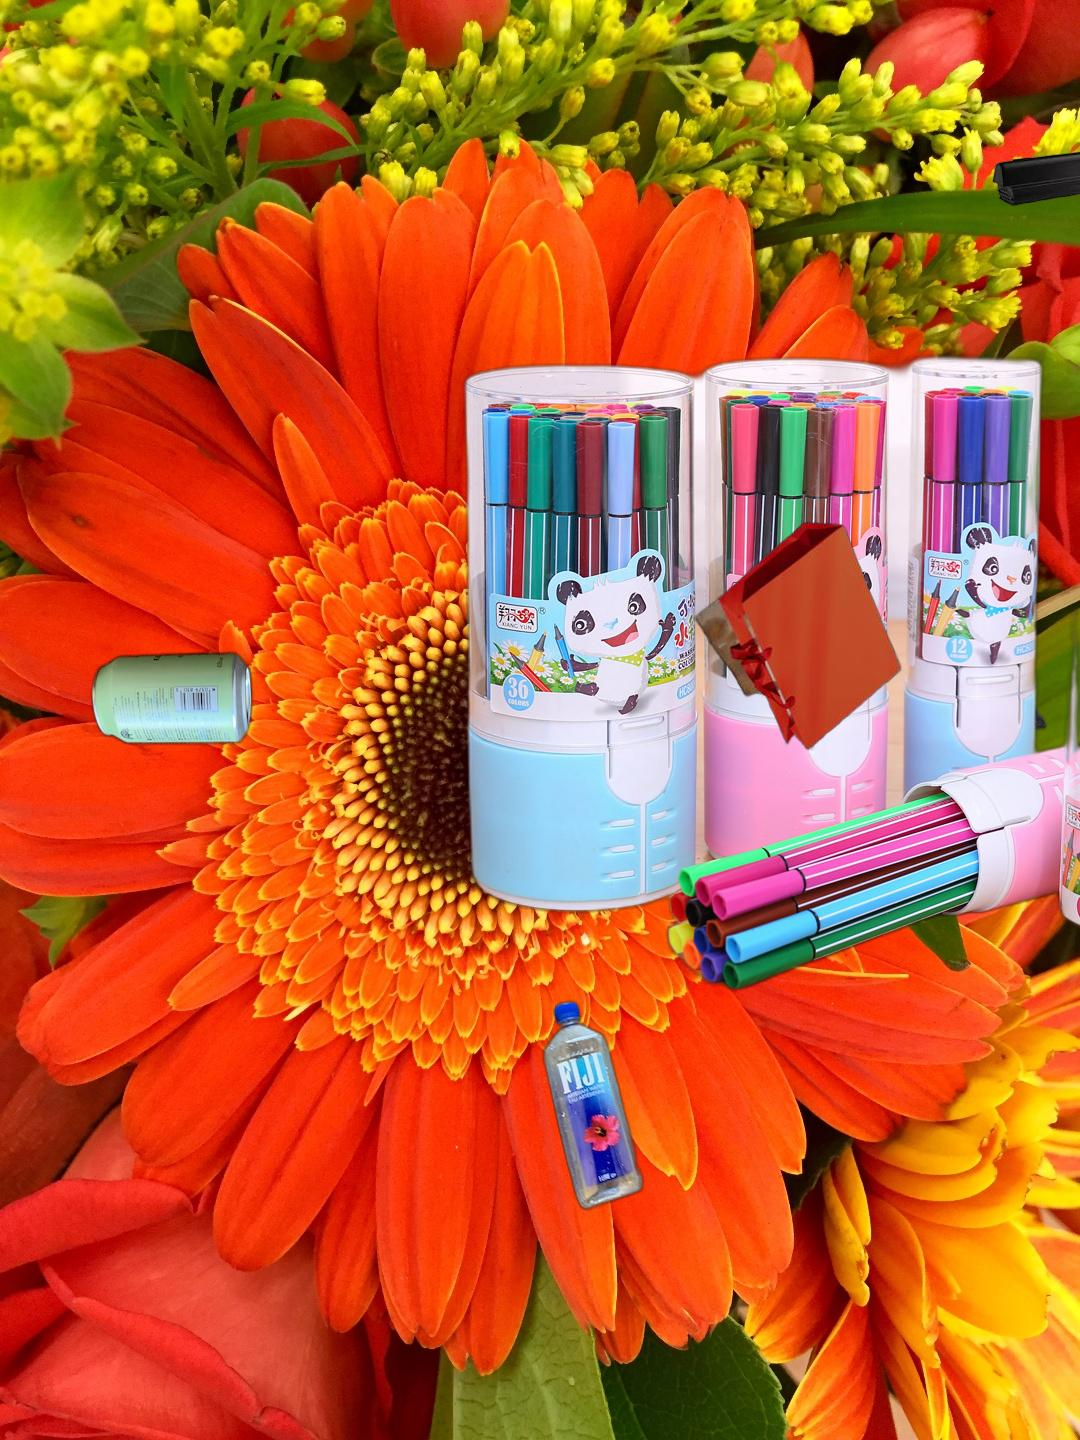battery: (990, 136, 1080, 207)
biological: (770, 812, 901, 876)
metal-cans: (87, 646, 258, 749)
paper-bag: (692, 519, 904, 752)
penholder: (459, 350, 1080, 996)
plastic-bag: (851, 654, 1051, 852)
plastic-bottles: (539, 996, 647, 1215)
